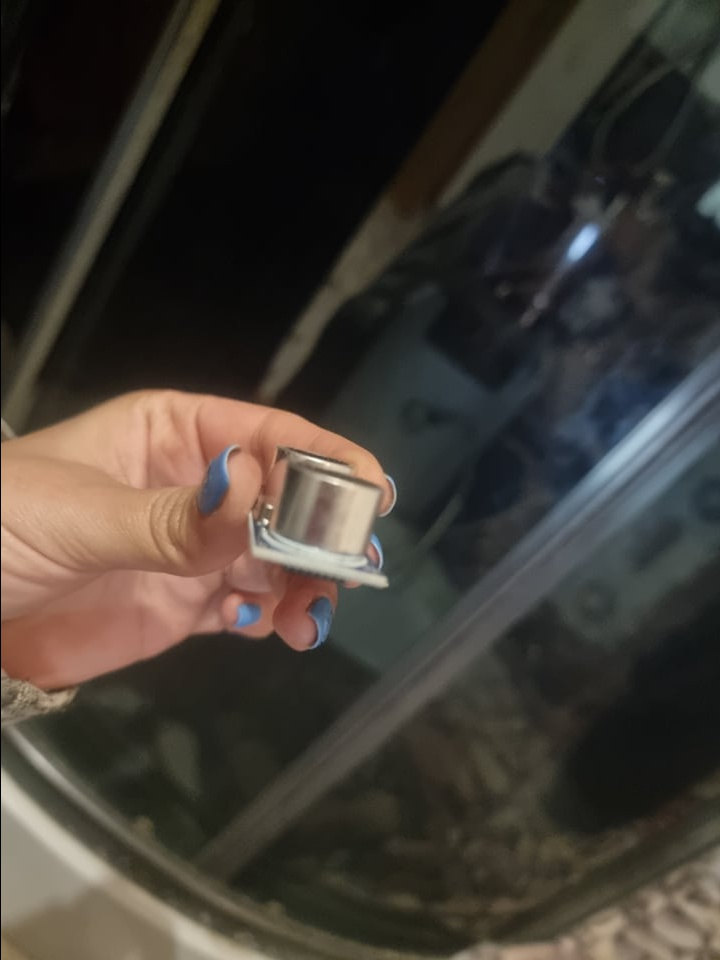SENSOR: (246, 444, 389, 591)
